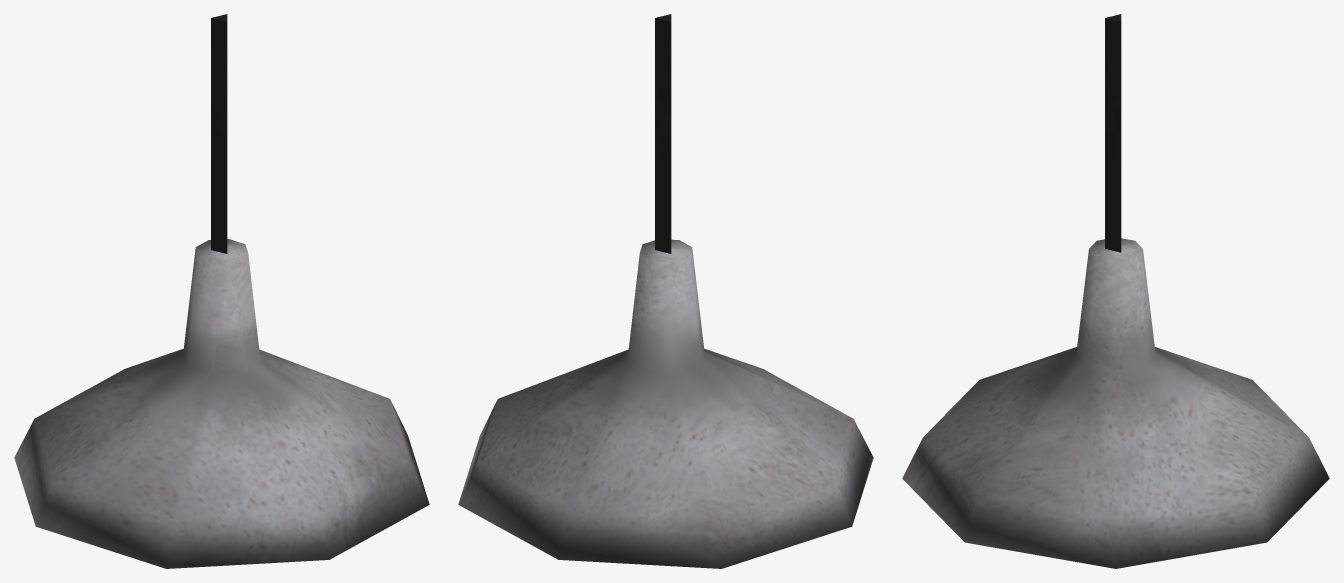
The model's file is Lamp.dae.
The picture shows the model from 3 angles, left to right: view 1: azimuth 30°, elevation 25°; view 2: azimuth 150°, elevation 25°; view 3: azimuth 270°, elevation 25°; orthographic projection.
Visible parts, largest first — view 1: Lamp; view 2: Lamp; view 3: Lamp.
Part boxes in pixels (box(x1,y1,x2,y2)): Lamp: box(14, 14, 429, 568); Lamp: box(458, 14, 873, 568); Lamp: box(902, 14, 1329, 568).
Size of the model in its own units: 0.5922 by 0.5922 by 0.7038.
1 material, 1 textured.
